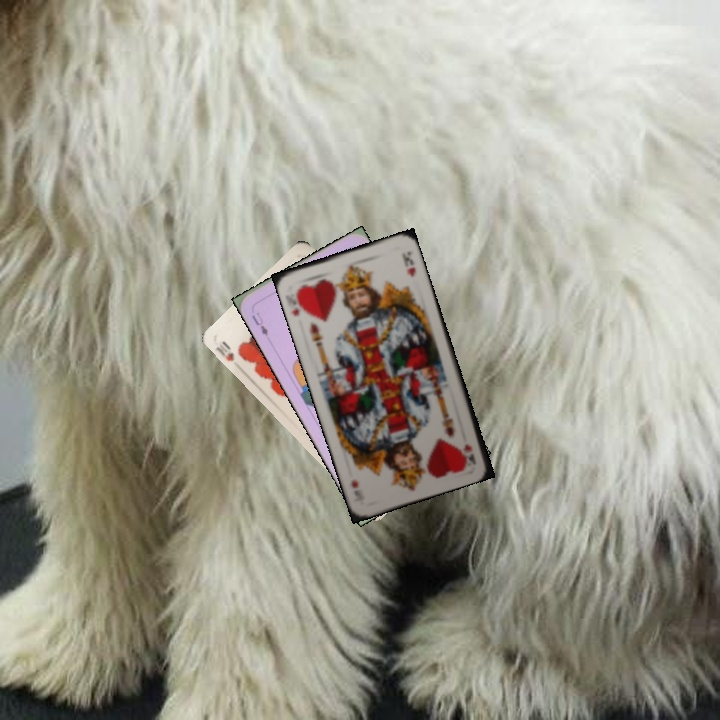EU: (247, 308, 272, 342)
H10: (212, 337, 237, 364)
HK: (288, 285, 308, 319), (460, 440, 478, 466)
